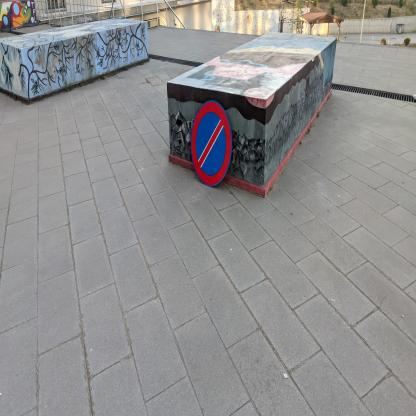No Waiting: (191, 102, 233, 188)
